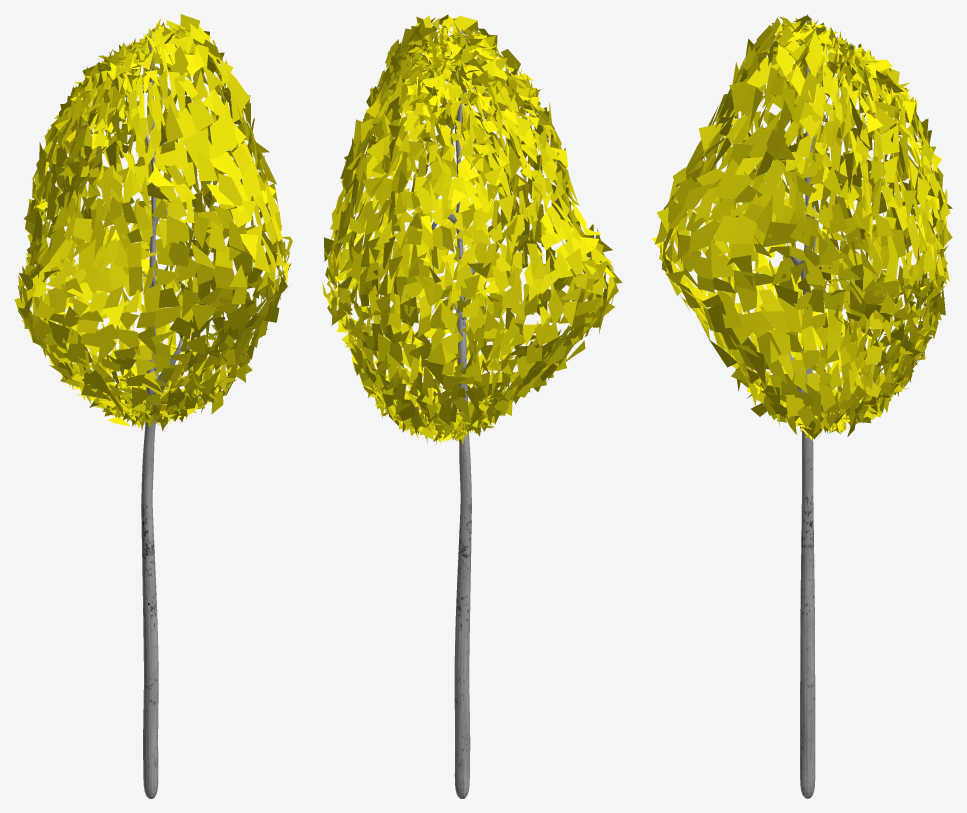
Rendered from Leaves35.fbx.
The picture shows the model from 3 angles, left to right: view 1: azimuth 30°, elevation 25°; view 2: azimuth 150°, elevation 25°; view 3: azimuth 270°, elevation 25°; orthographic projection. The views are drawn at different scales.
Visible parts, largest first — view 1: Leaves35; view 2: Leaves35; view 3: Leaves35.
Boxes of the visible parts, x1,y1,x2,y2 form: Leaves35: (14, 14, 292, 798); Leaves35: (322, 14, 622, 798); Leaves35: (651, 14, 952, 798).
Size of the model in its own units: 859 by 2587 by 896.
Materials: 2 (1 with a texture image).
